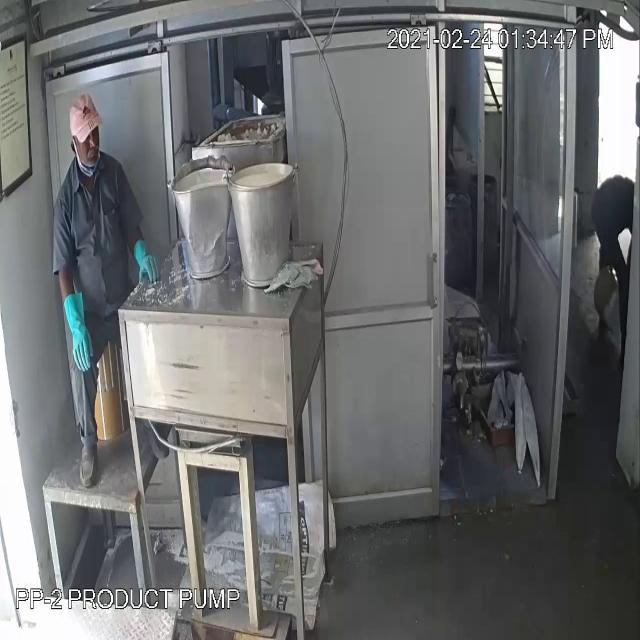no-helmet: (66, 87, 105, 151)
